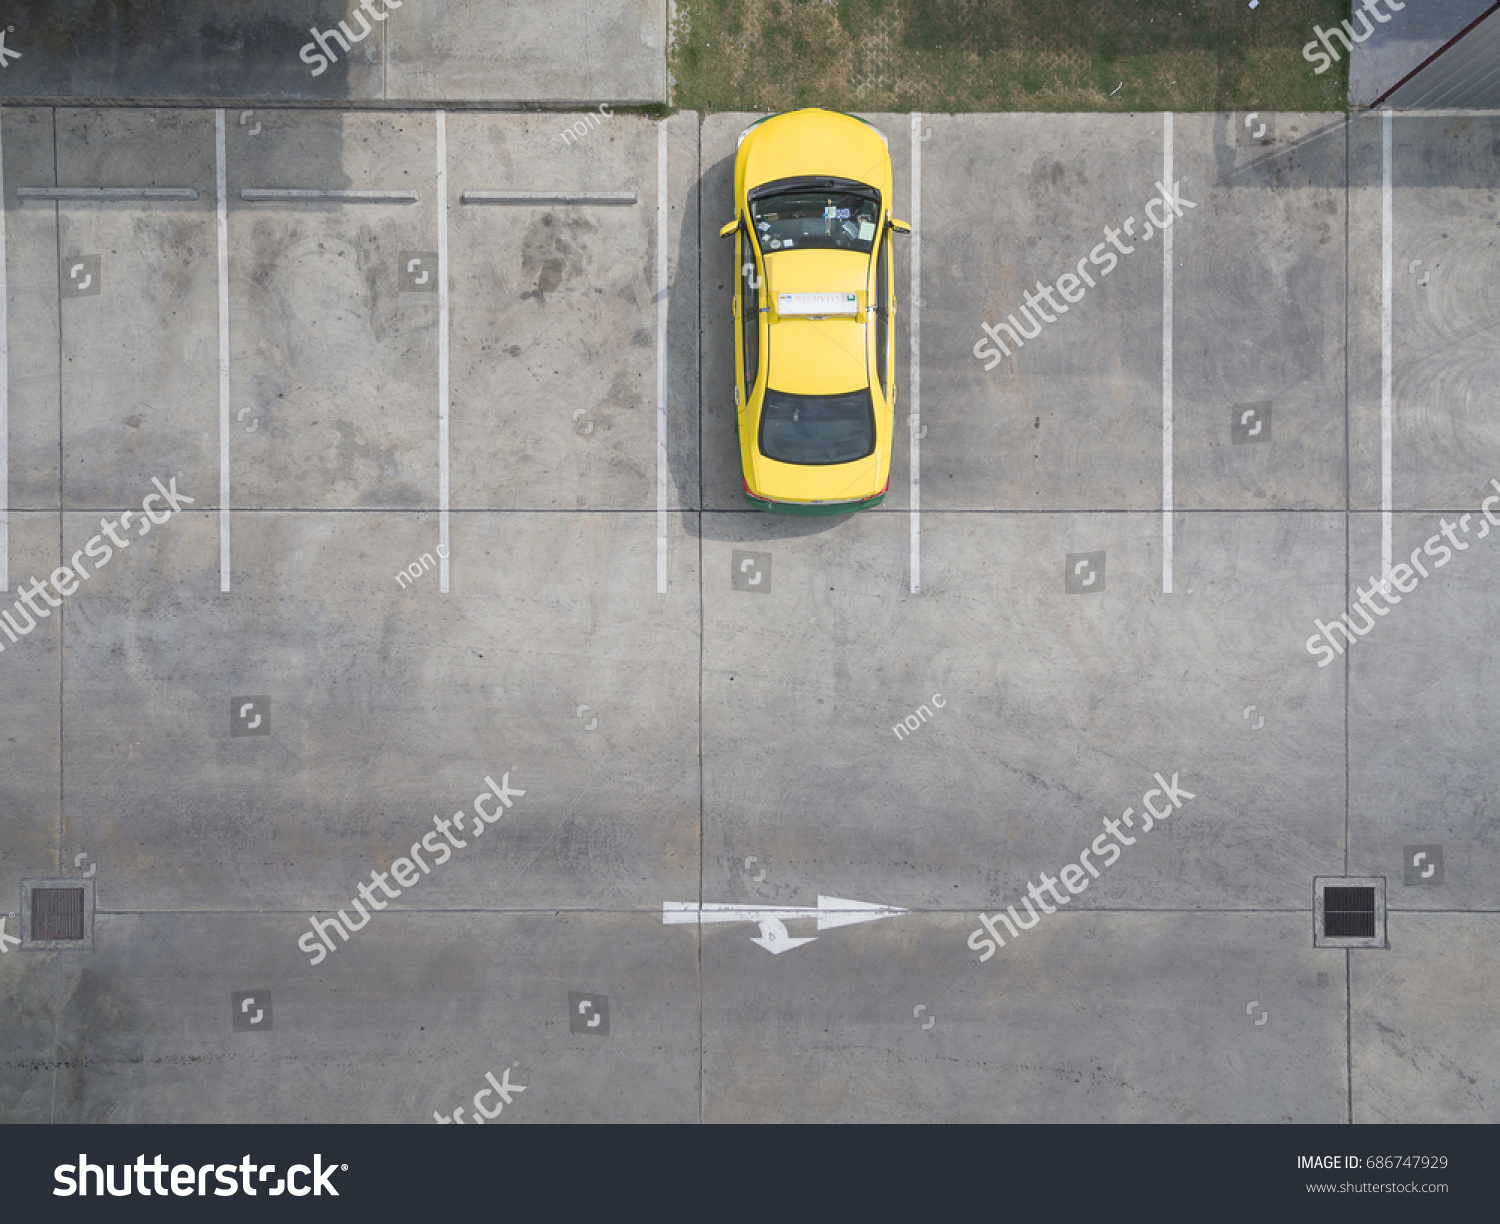Car: (720, 97, 896, 519)
LaneMark: (657, 886, 922, 963), (648, 103, 674, 595), (1156, 107, 1179, 597), (1378, 107, 1397, 581), (909, 112, 924, 603), (437, 107, 449, 592), (218, 101, 228, 590)
